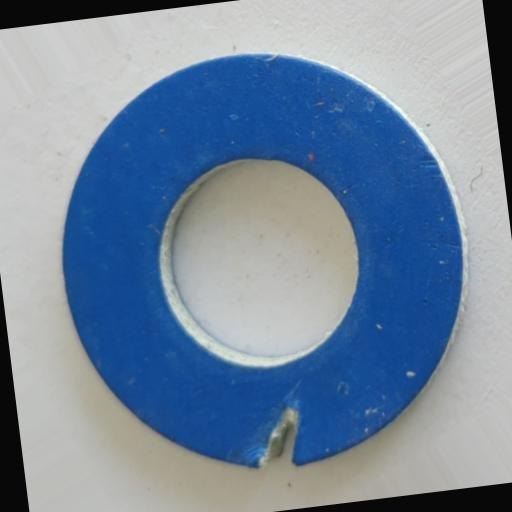defect: (246, 404, 308, 473)
